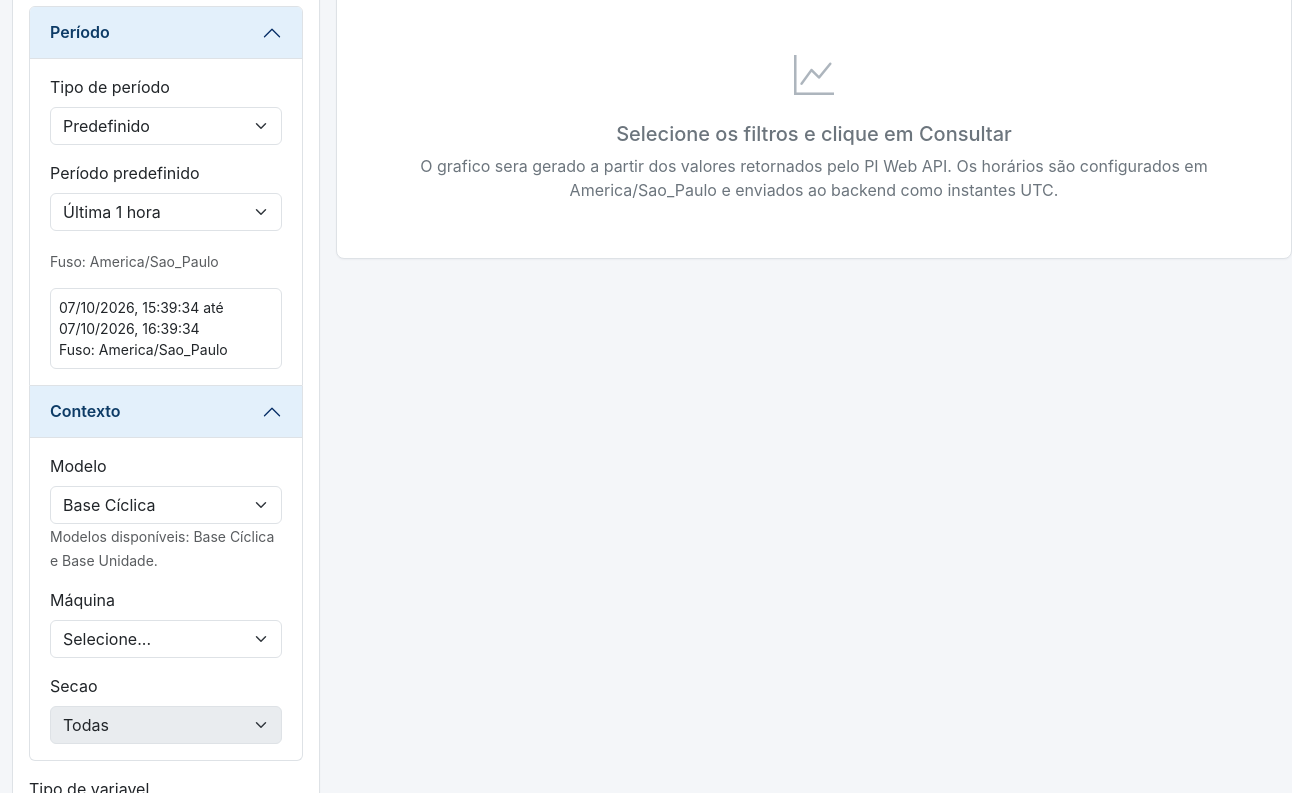
Test: Base Unidade main chart integration › reports missing equipment-wide UM clearly for Todas
Select "RB3 - Equipamento RB3" in the dropdown with test id "equipment-select": (166, 639) [50,620,282,658]
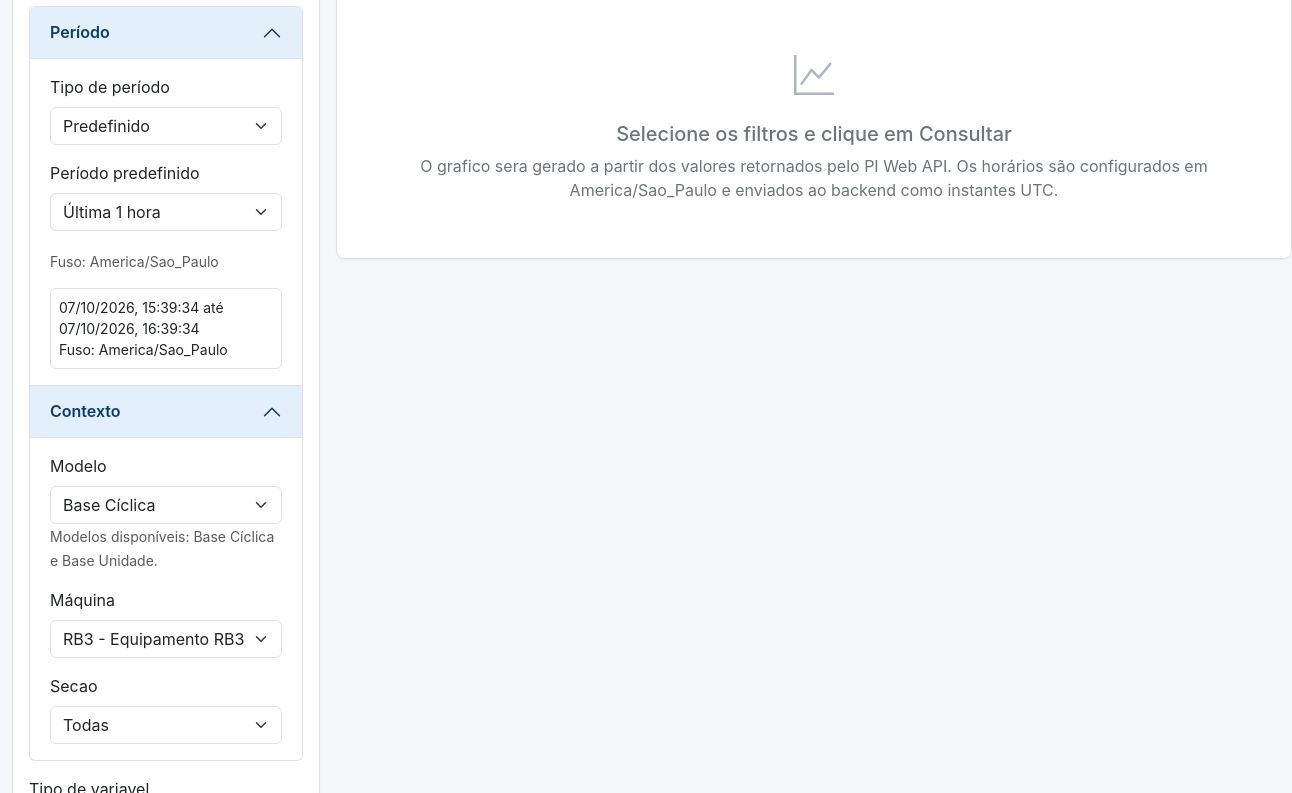
Expected: the dropdown with test id "section-select" is enabled, [50,706,282,744]
Select "Base Unidade" in the dropdown with test id "analysis-model": (166, 505) [50,486,282,524]
(page scrolled)
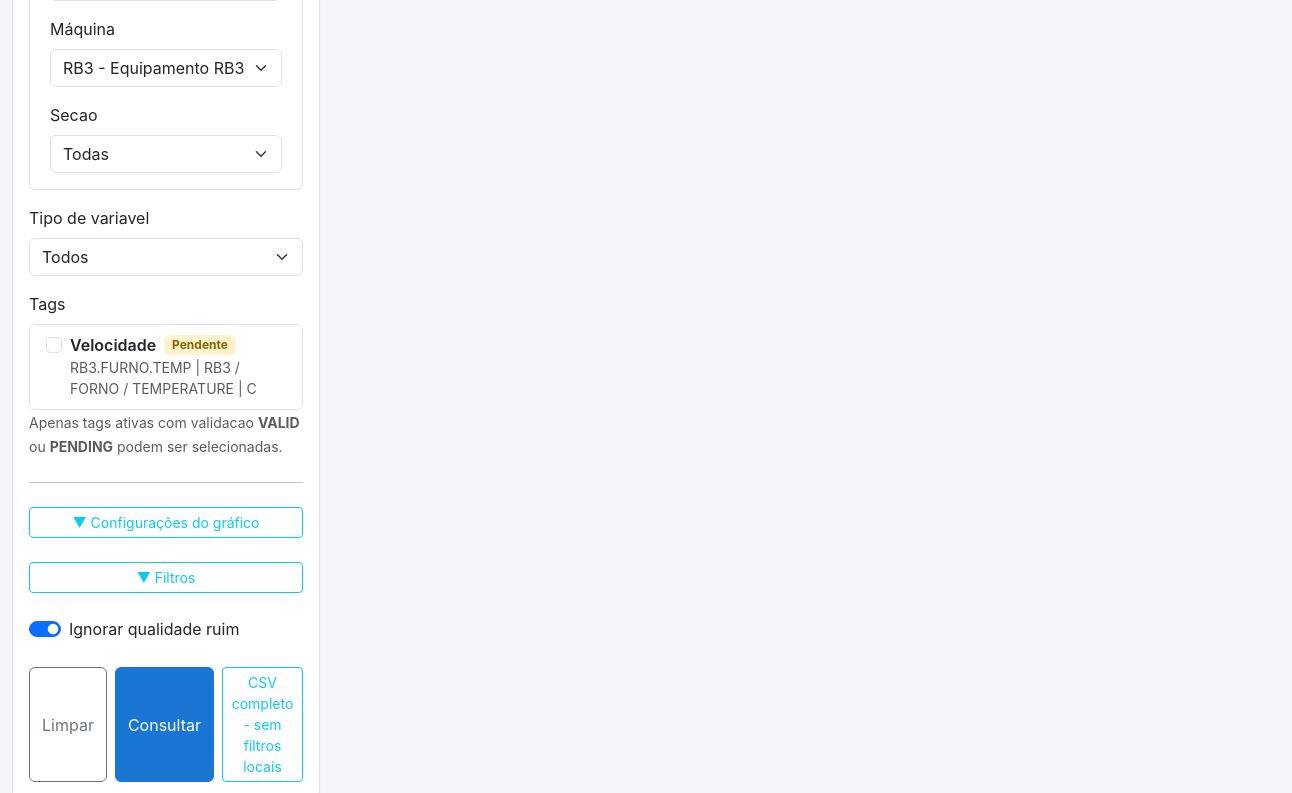
Click the button with test id "tag-option-20": (166, 367) [29,324,303,410]
(page scrolled)
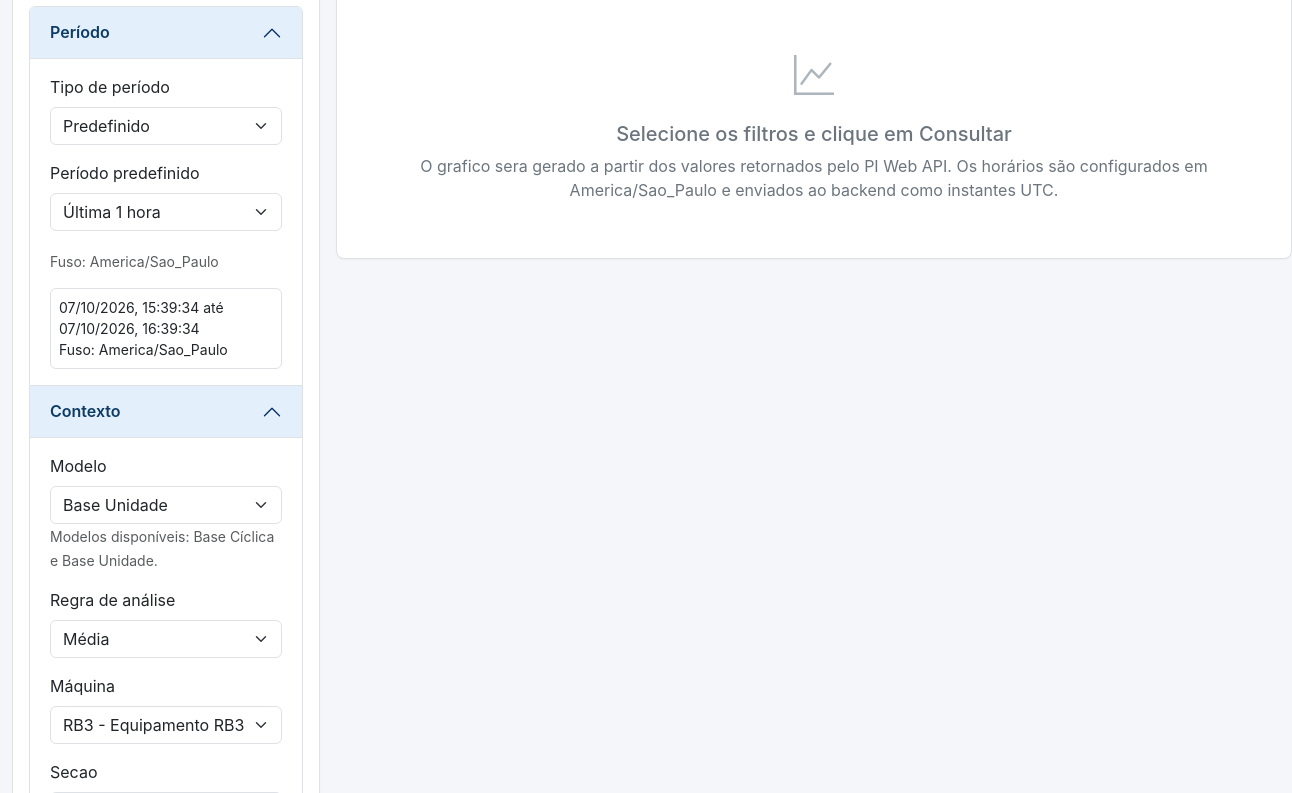
Select "Absoluto" in the dropdown with test id "period-kind": (166, 126) [50,107,282,145]
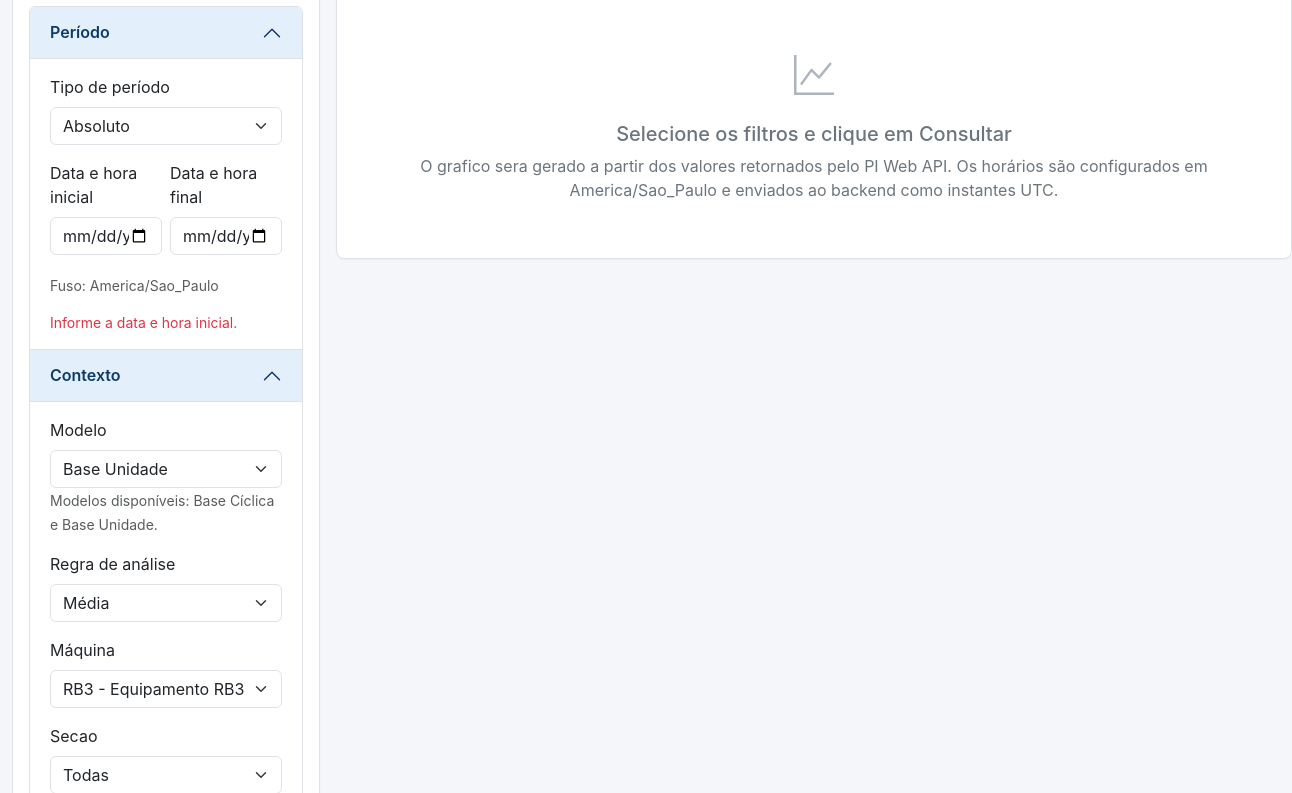
In the field with test id "absolute-start": (106, 236) [50,217,162,255], type "2026-10-02T07:00:00"
In the field with test id "absolute-end": (226, 236) [170,217,282,255], type "2026-10-02T07:15:00"
(page scrolled)
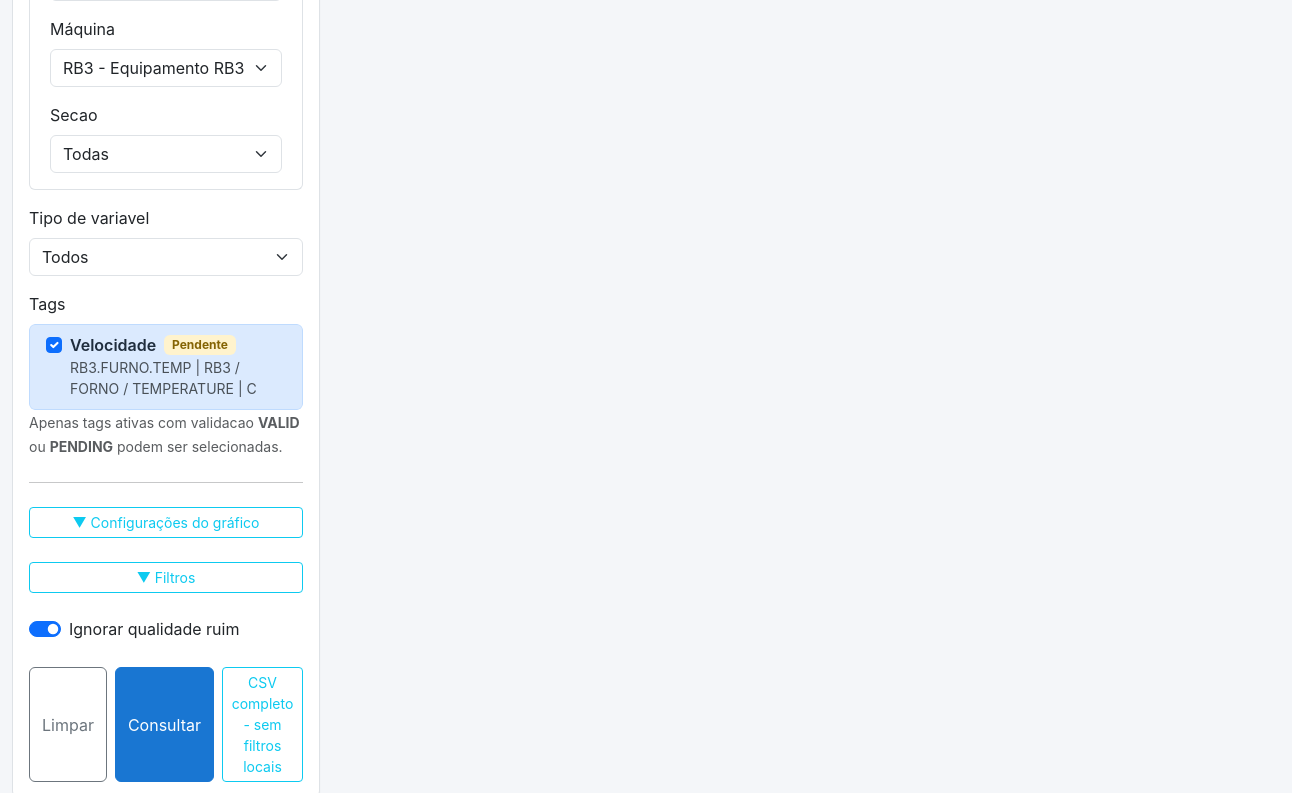
Click the button with test id "filters-submit": (164, 724) [115,667,214,782]
(page scrolled)
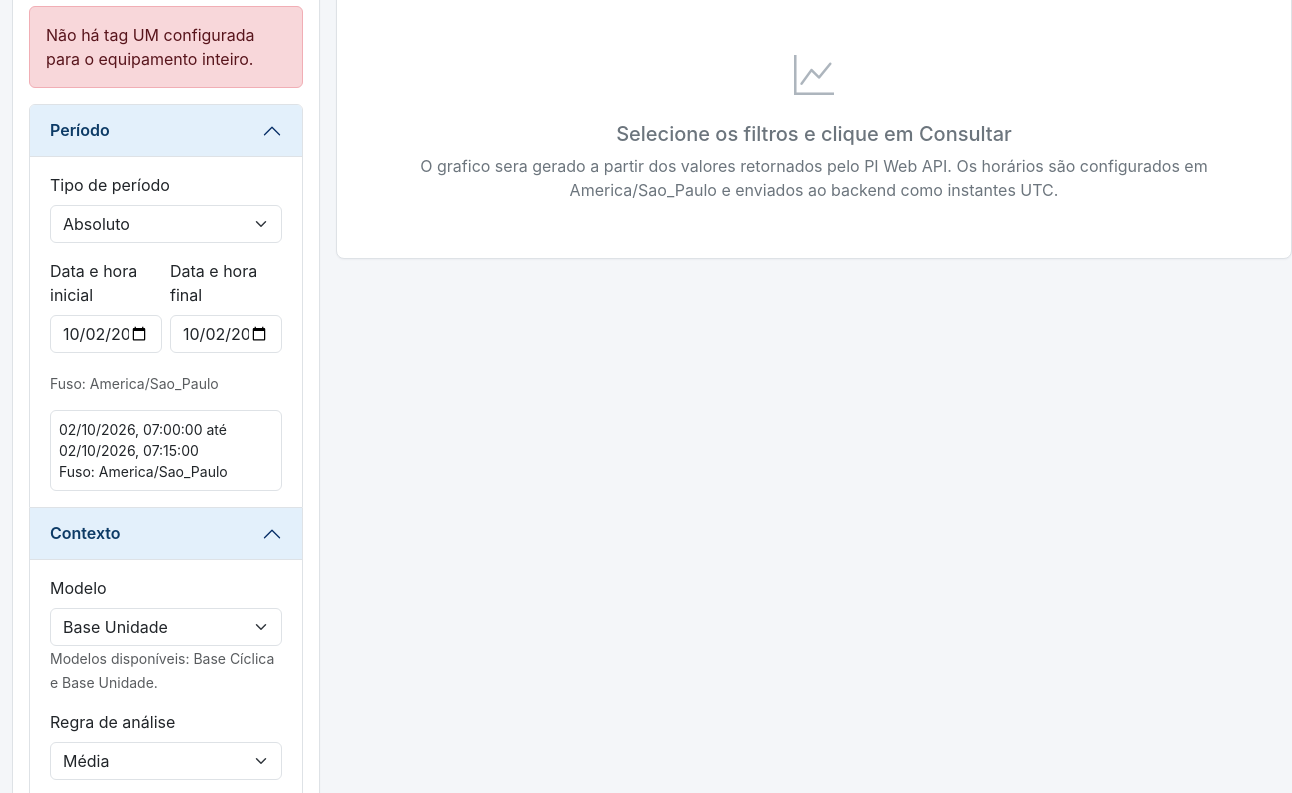
Now the text "Não há tag UM configurada para o equipamento inteiro." is shown, box [29,6,303,88]
